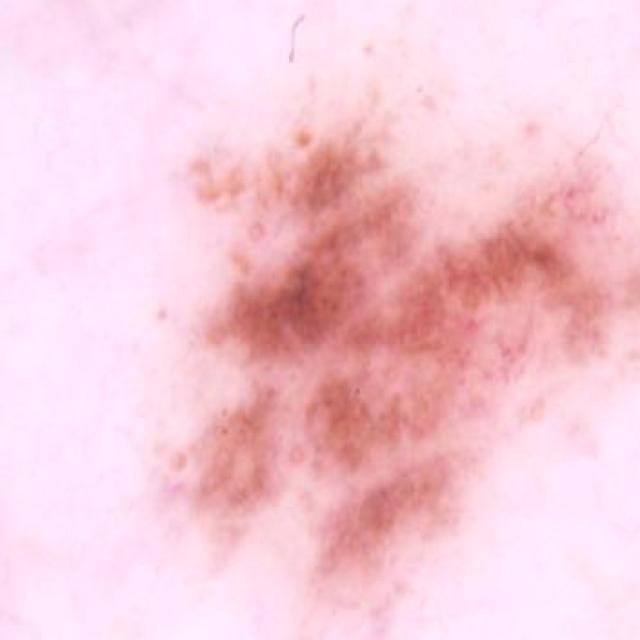NV: (158, 92, 640, 640)
